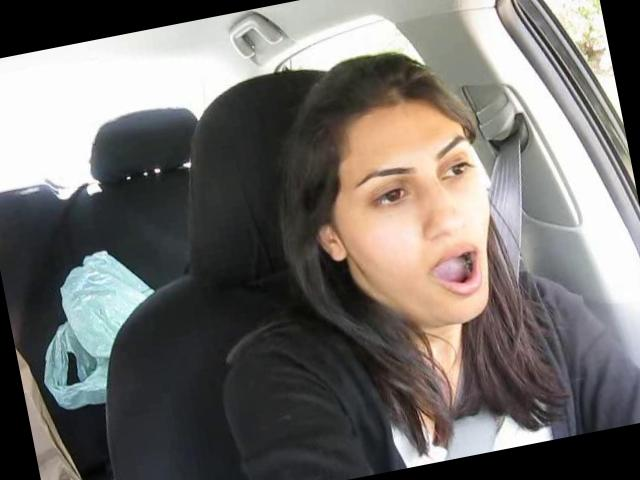eye_open: (367, 178, 416, 213), (437, 153, 478, 186)
face: (331, 126, 518, 346)
mouth_open: (419, 237, 494, 304)
